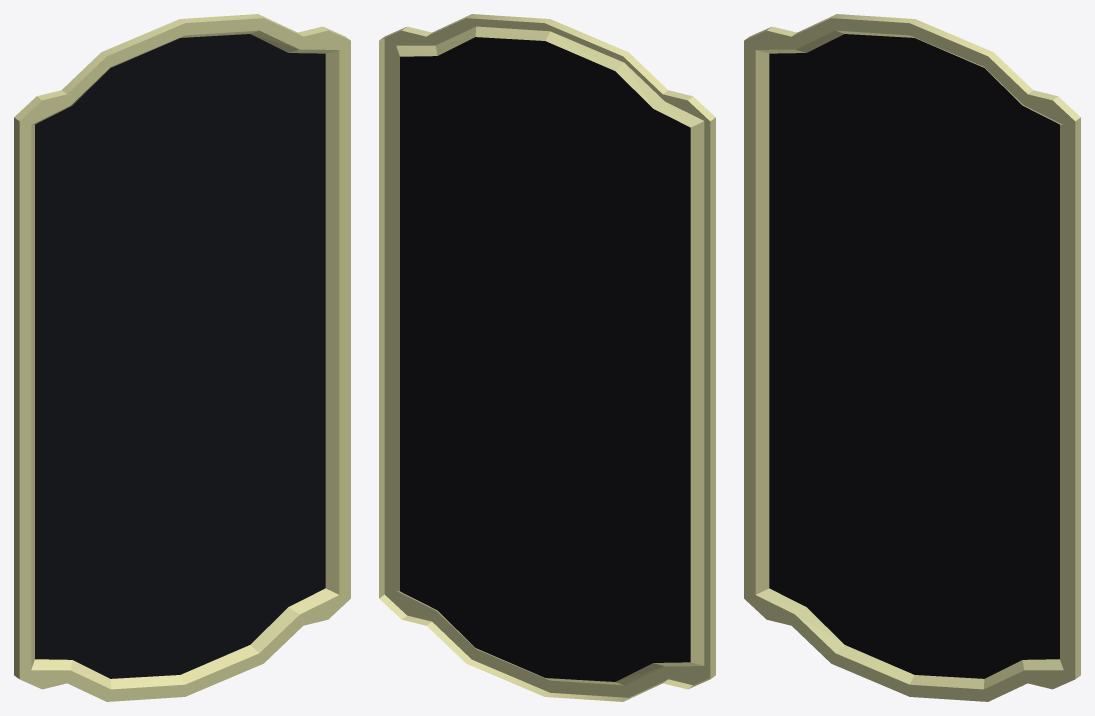
Rendered from SignboardFront.FBX.
3 views of the same model, side by side, from view 1: azimuth 30°, elevation 25°; view 2: azimuth 150°, elevation 25°; view 3: azimuth 330°, elevation 25° (orthographic).
Visible parts, largest first — view 1: Box062; view 2: Box062; view 3: Box062.
Part boxes in pixels (box(x1,y1,x2,y2)): Box062: box(14, 14, 350, 701); Box062: box(379, 14, 715, 701); Box062: box(744, 14, 1080, 701).
Bounding box in the file's own units: 9.23 × 17.94 × 0.2708.
Materials: 1 (1 with a texture image).
